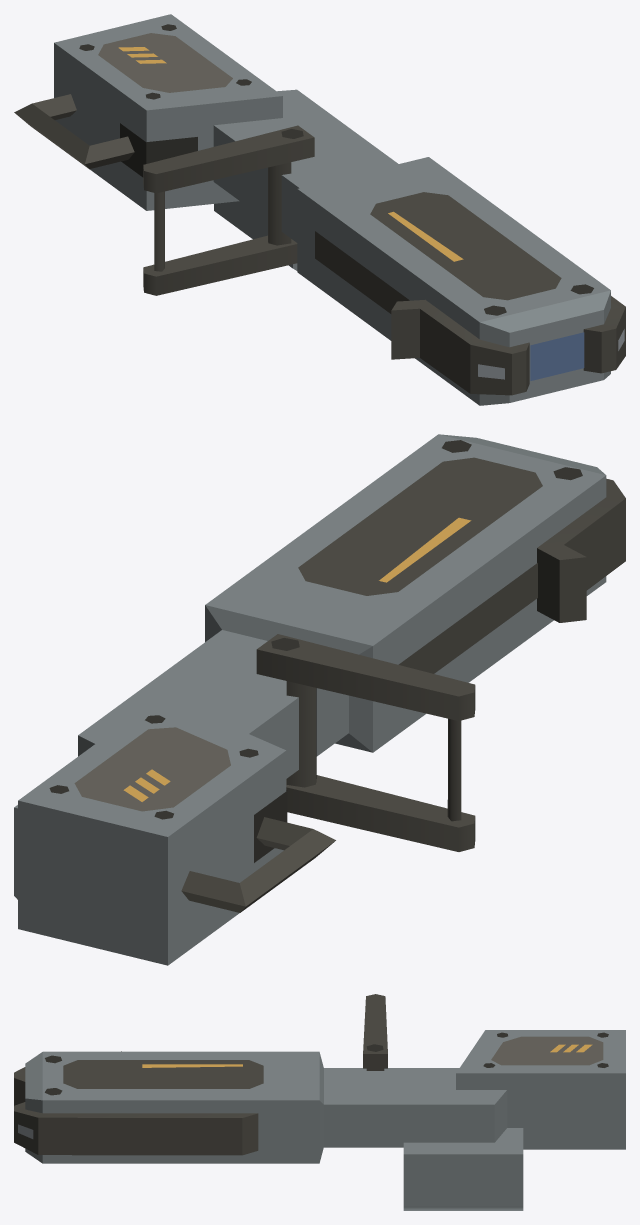
The model's file is Army3_2_Cannon.FBX.
The picture shows the model from 3 angles, top to bottom: view 1: azimuth 30°, elevation 25°; view 2: azimuth 150°, elevation 25°; view 3: azimuth 270°, elevation 25°; orthographic projection. The views are drawn at different scales.
Visible parts, largest first — view 1: Army3_2_Cannon; view 2: Army3_2_Cannon; view 3: Army3_2_Cannon.
Part boxes in pixels (x1,y1,x2,y2): Army3_2_Cannon: (14,14,625,405); Army3_2_Cannon: (14,434,625,965); Army3_2_Cannon: (14,994,625,1210).
Size of the model in its own units: 18.19 by 48.33 by 11.03.
